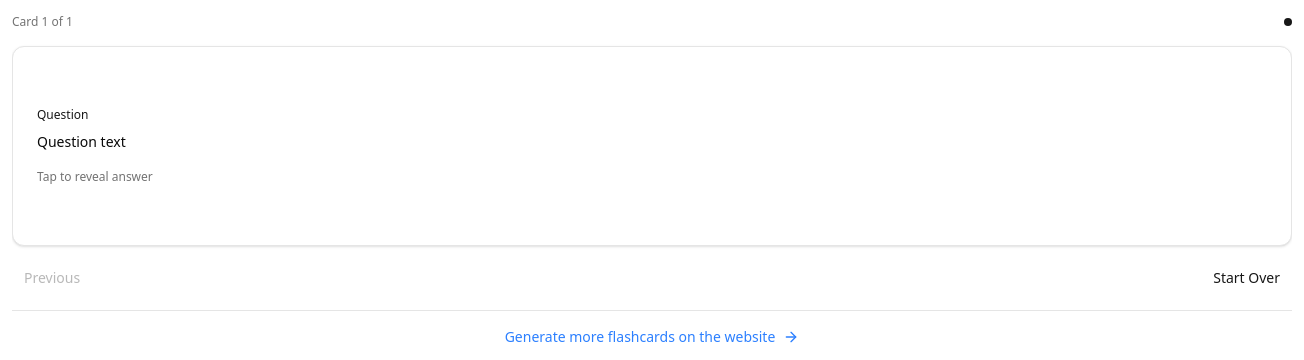
Test: FlashcardView › flip interaction › reveals answer when card is clicked
Click the button with aria-label "show answer". click: {"x": 652, "y": 234}
box: [12, 46, 1292, 246]
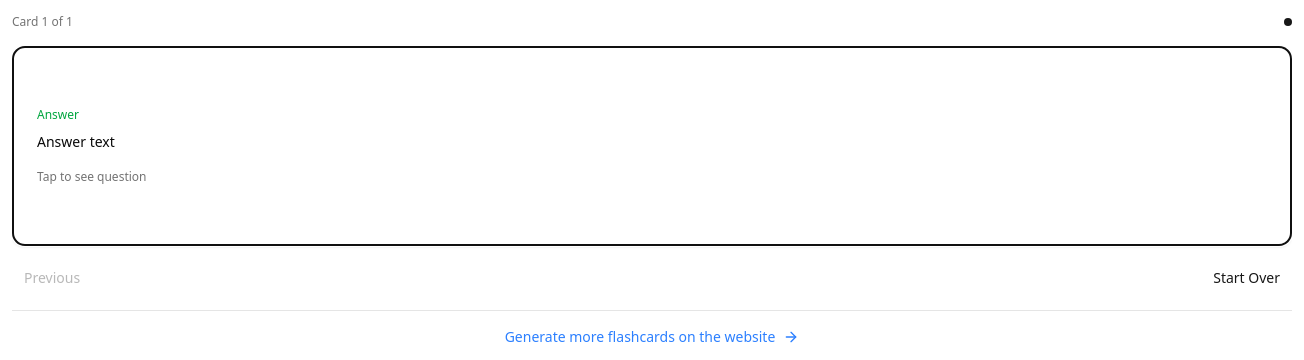
Result: the text "Answer text" is shown at [37, 132, 115, 151]
Result: the button "Question text" is gone
